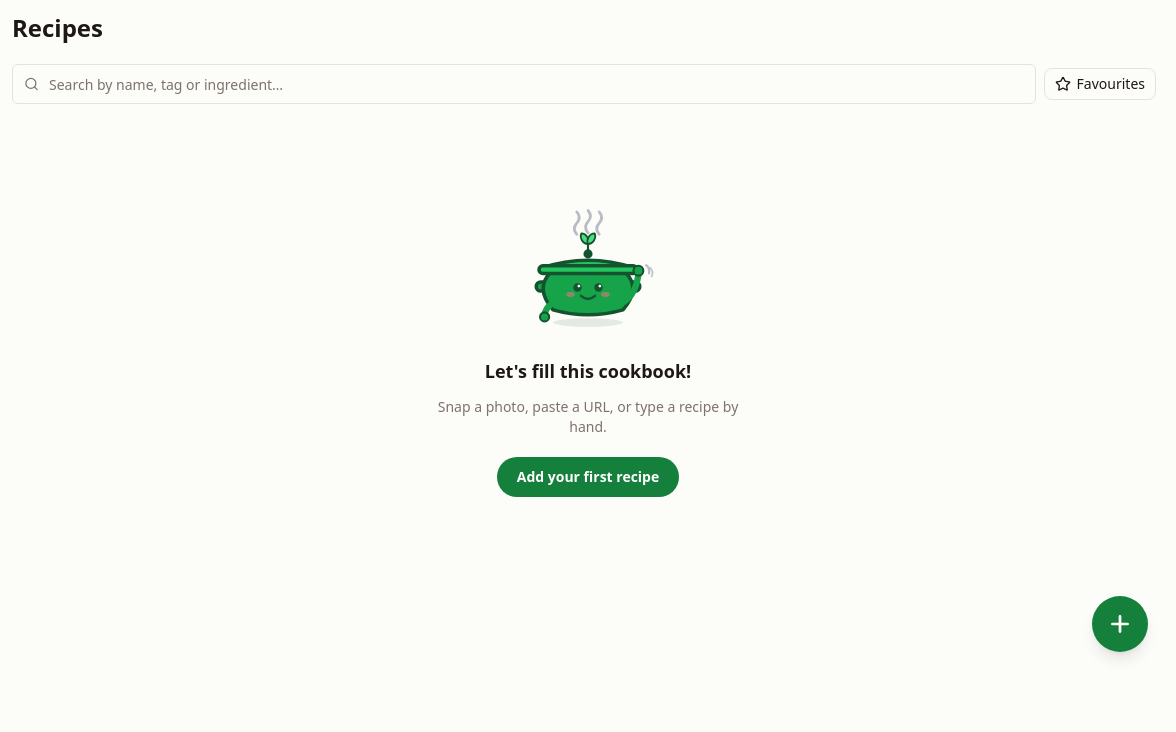
Test: RecipesPage › shows clear-× button when search has text and clears on click
The width and height of the screenshot is (1176, 732).
Type "pasta" into the field with placeholder "Search by name, tag or ingredient…" at (524, 84), box 12,64 -> 1036,104
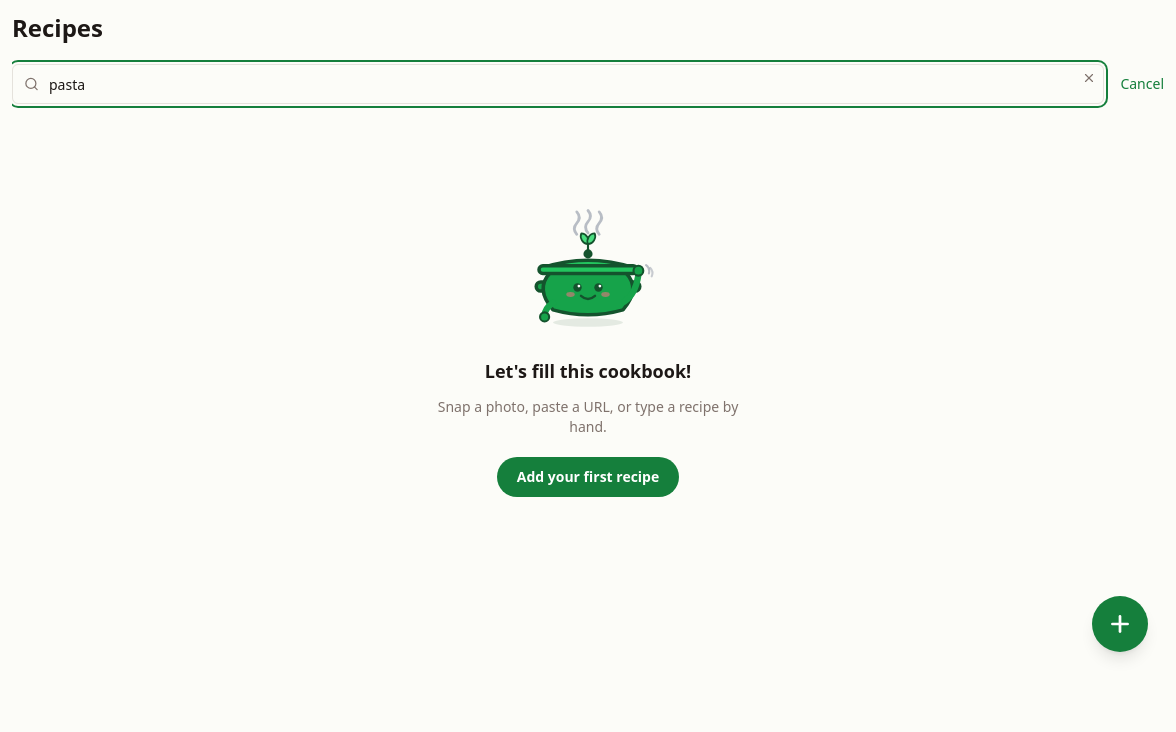
Result: the button named "Clear search" is shown
Click the button named "Clear search" at (1089, 78), box 1076,65 -> 1102,91
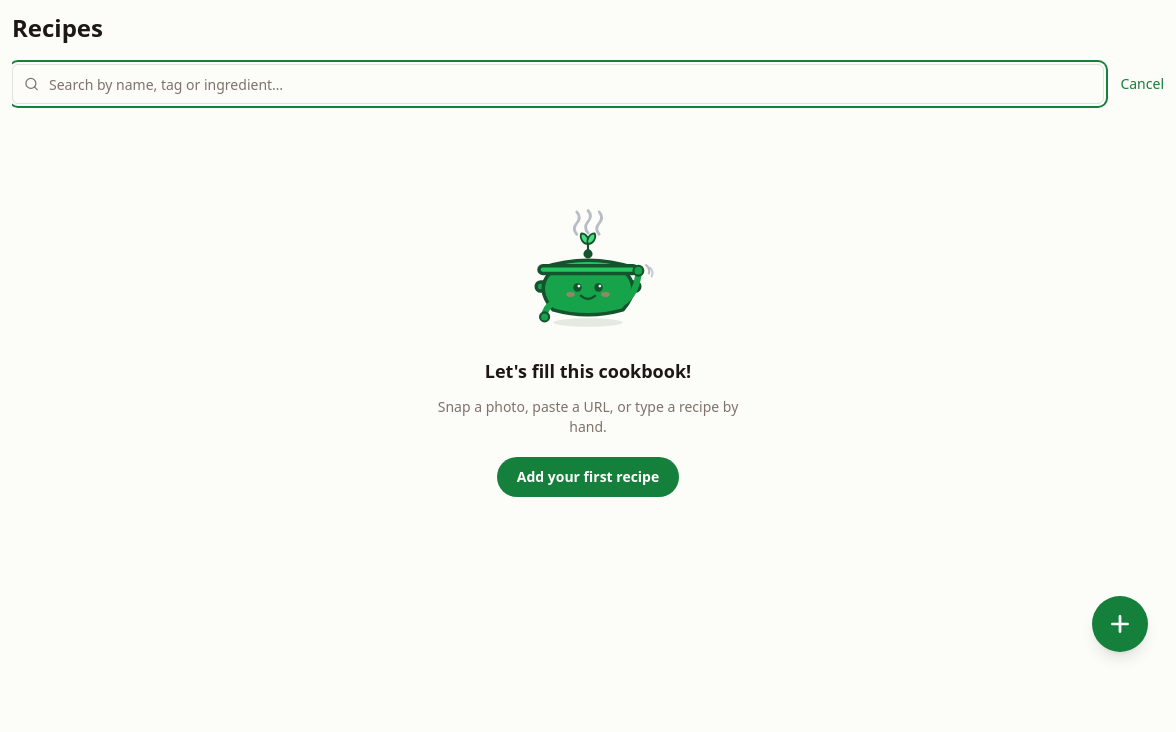
Result: the field with placeholder "Search by name, tag or ingredient…" is empty at 12,64 -> 1104,104
